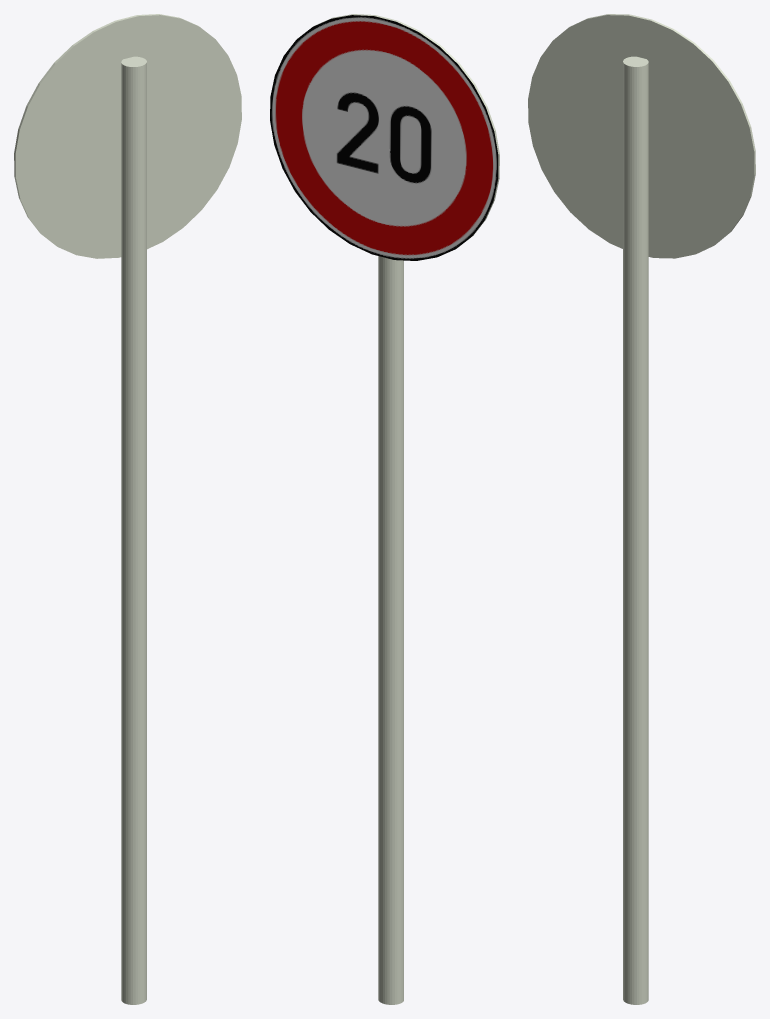
The picture shows the model from 3 angles, left to right: view 1: azimuth 30°, elevation 25°; view 2: azimuth 150°, elevation 25°; view 3: azimuth 330°, elevation 25°; orthographic projection.
Visible parts, largest first — view 1: Circle.010, 20_tube; view 2: Circle.010, 20_tube; view 3: Circle.010, 20_tube.
Part boxes in pixels (x1,y1,x2,y2): Circle.010: (14, 14, 241, 258); 20_tube: (121, 56, 146, 1004); Circle.010: (270, 14, 499, 260); 20_tube: (378, 256, 403, 1004); Circle.010: (528, 14, 755, 258); 20_tube: (623, 56, 648, 1004).
Size of the model in its own units: 0.4383 by 1.81 by 0.0437.
Materials: 3 (1 with a texture image).
